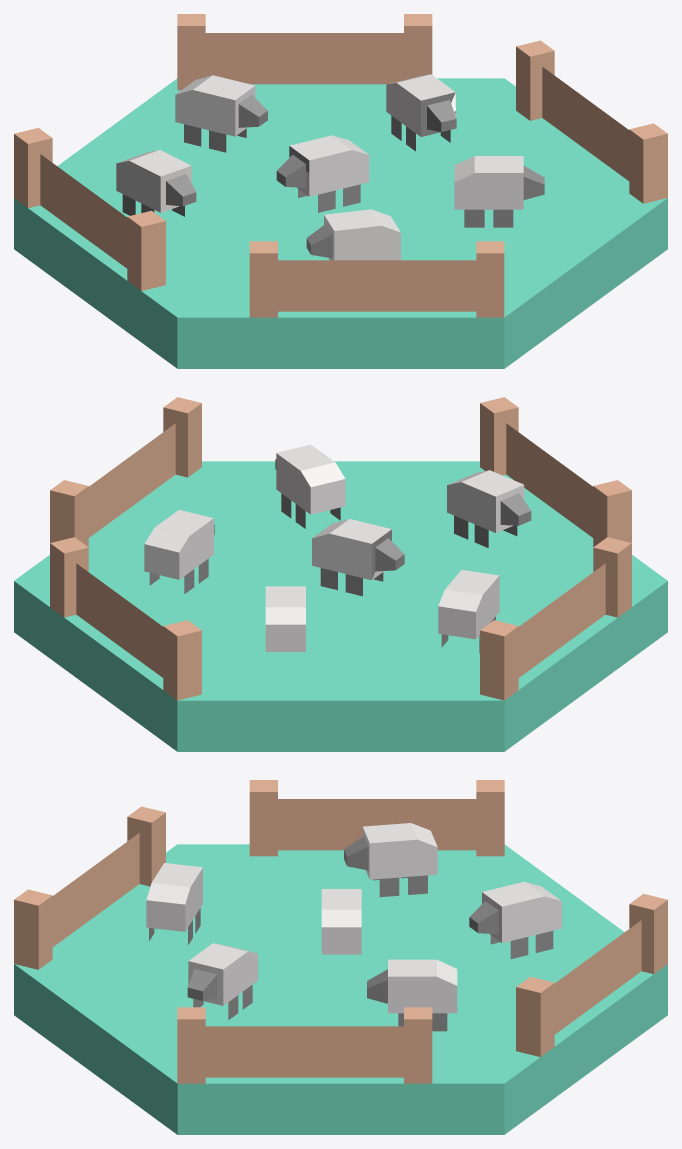
Rendered from Pasture.fbx.
3 renders of one model, top to bottom at view 1: azimuth 30°, elevation 25°; view 2: azimuth 150°, elevation 25°; view 3: azimuth 270°, elevation 25°, orthographic.
Parts seen in each view (by area): view 1: building_sheep; view 2: building_sheep; view 3: building_sheep.
Part boxes in pixels (x1=…): building_sheep: x1=14, y1=14, x2=667, y2=368; building_sheep: x1=14, y1=397, x2=667, y2=751; building_sheep: x1=14, y1=780, x2=667, y2=1134.
Size of the model in its own units: 100 by 22.5 by 115.
